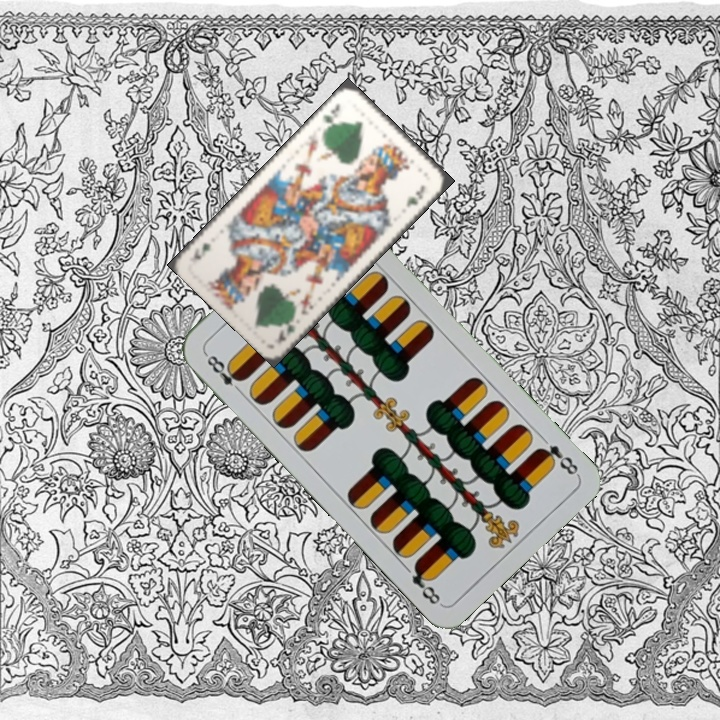E8: (200, 349, 247, 397), (532, 440, 582, 478)
GK: (273, 312, 299, 346), (318, 99, 343, 132)
